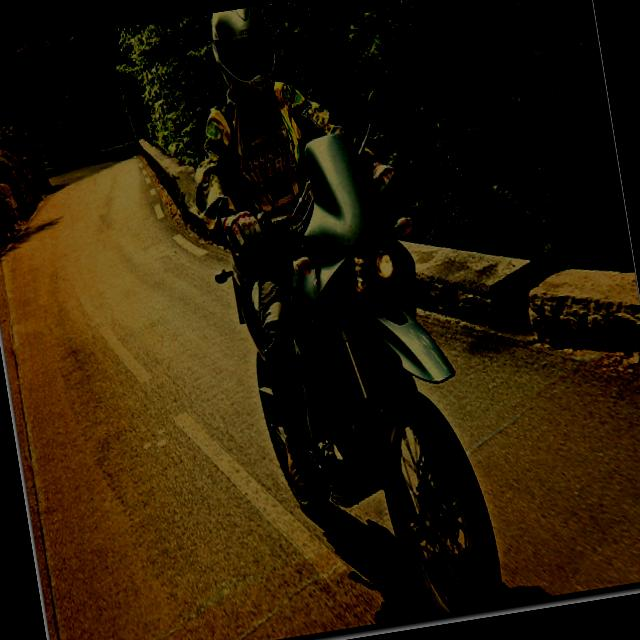Vehicle: (246, 78, 509, 636)
